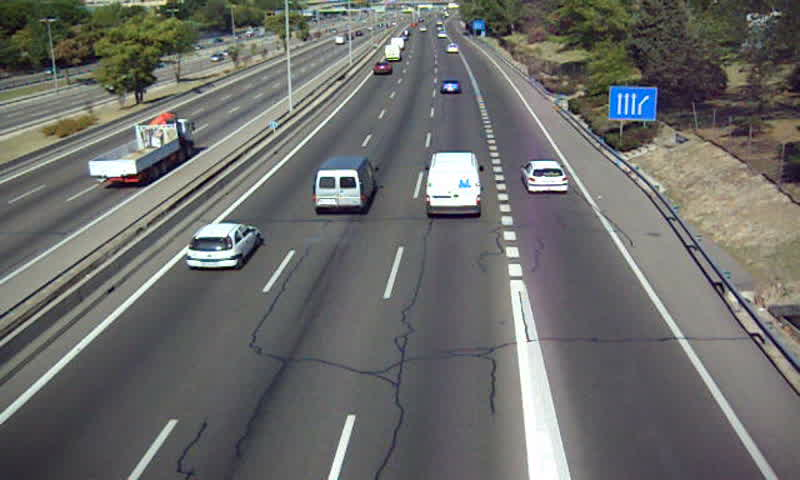car: (186, 223, 261, 272), (522, 160, 570, 193), (439, 78, 462, 94), (372, 62, 392, 76)
van: (426, 152, 483, 216), (313, 156, 377, 212), (384, 44, 401, 62)
